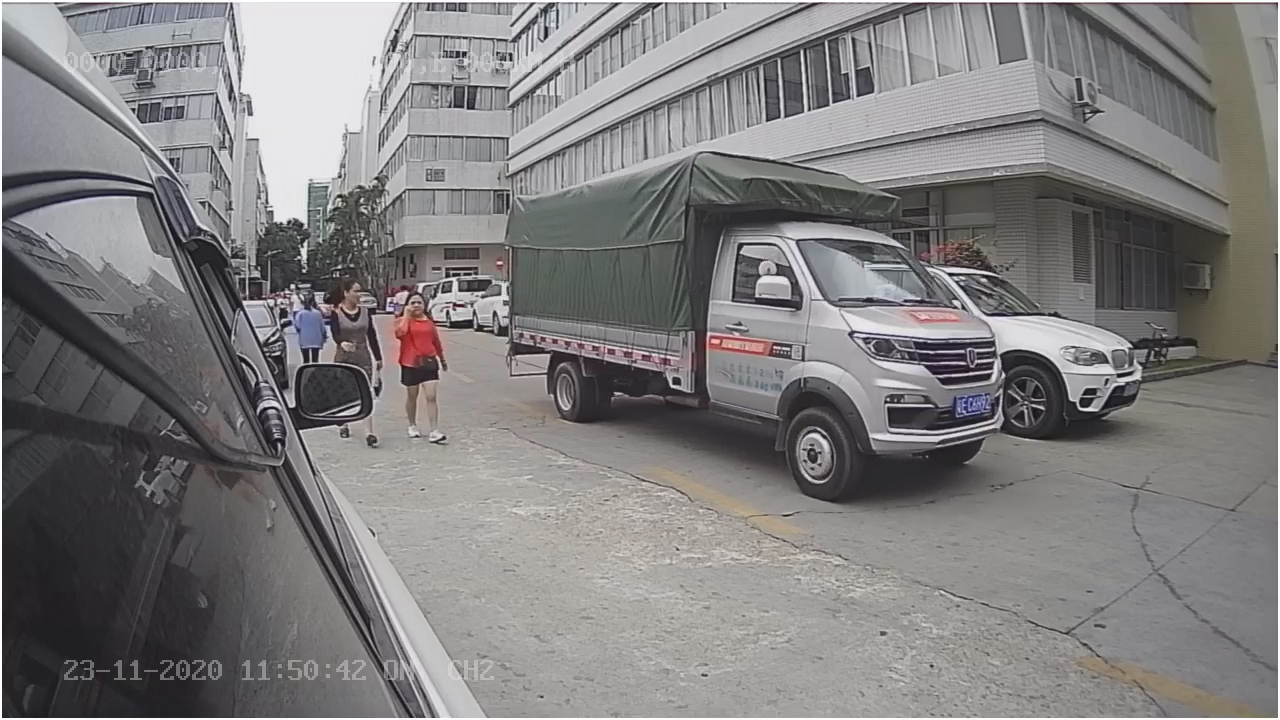person: (389, 288, 460, 443)
